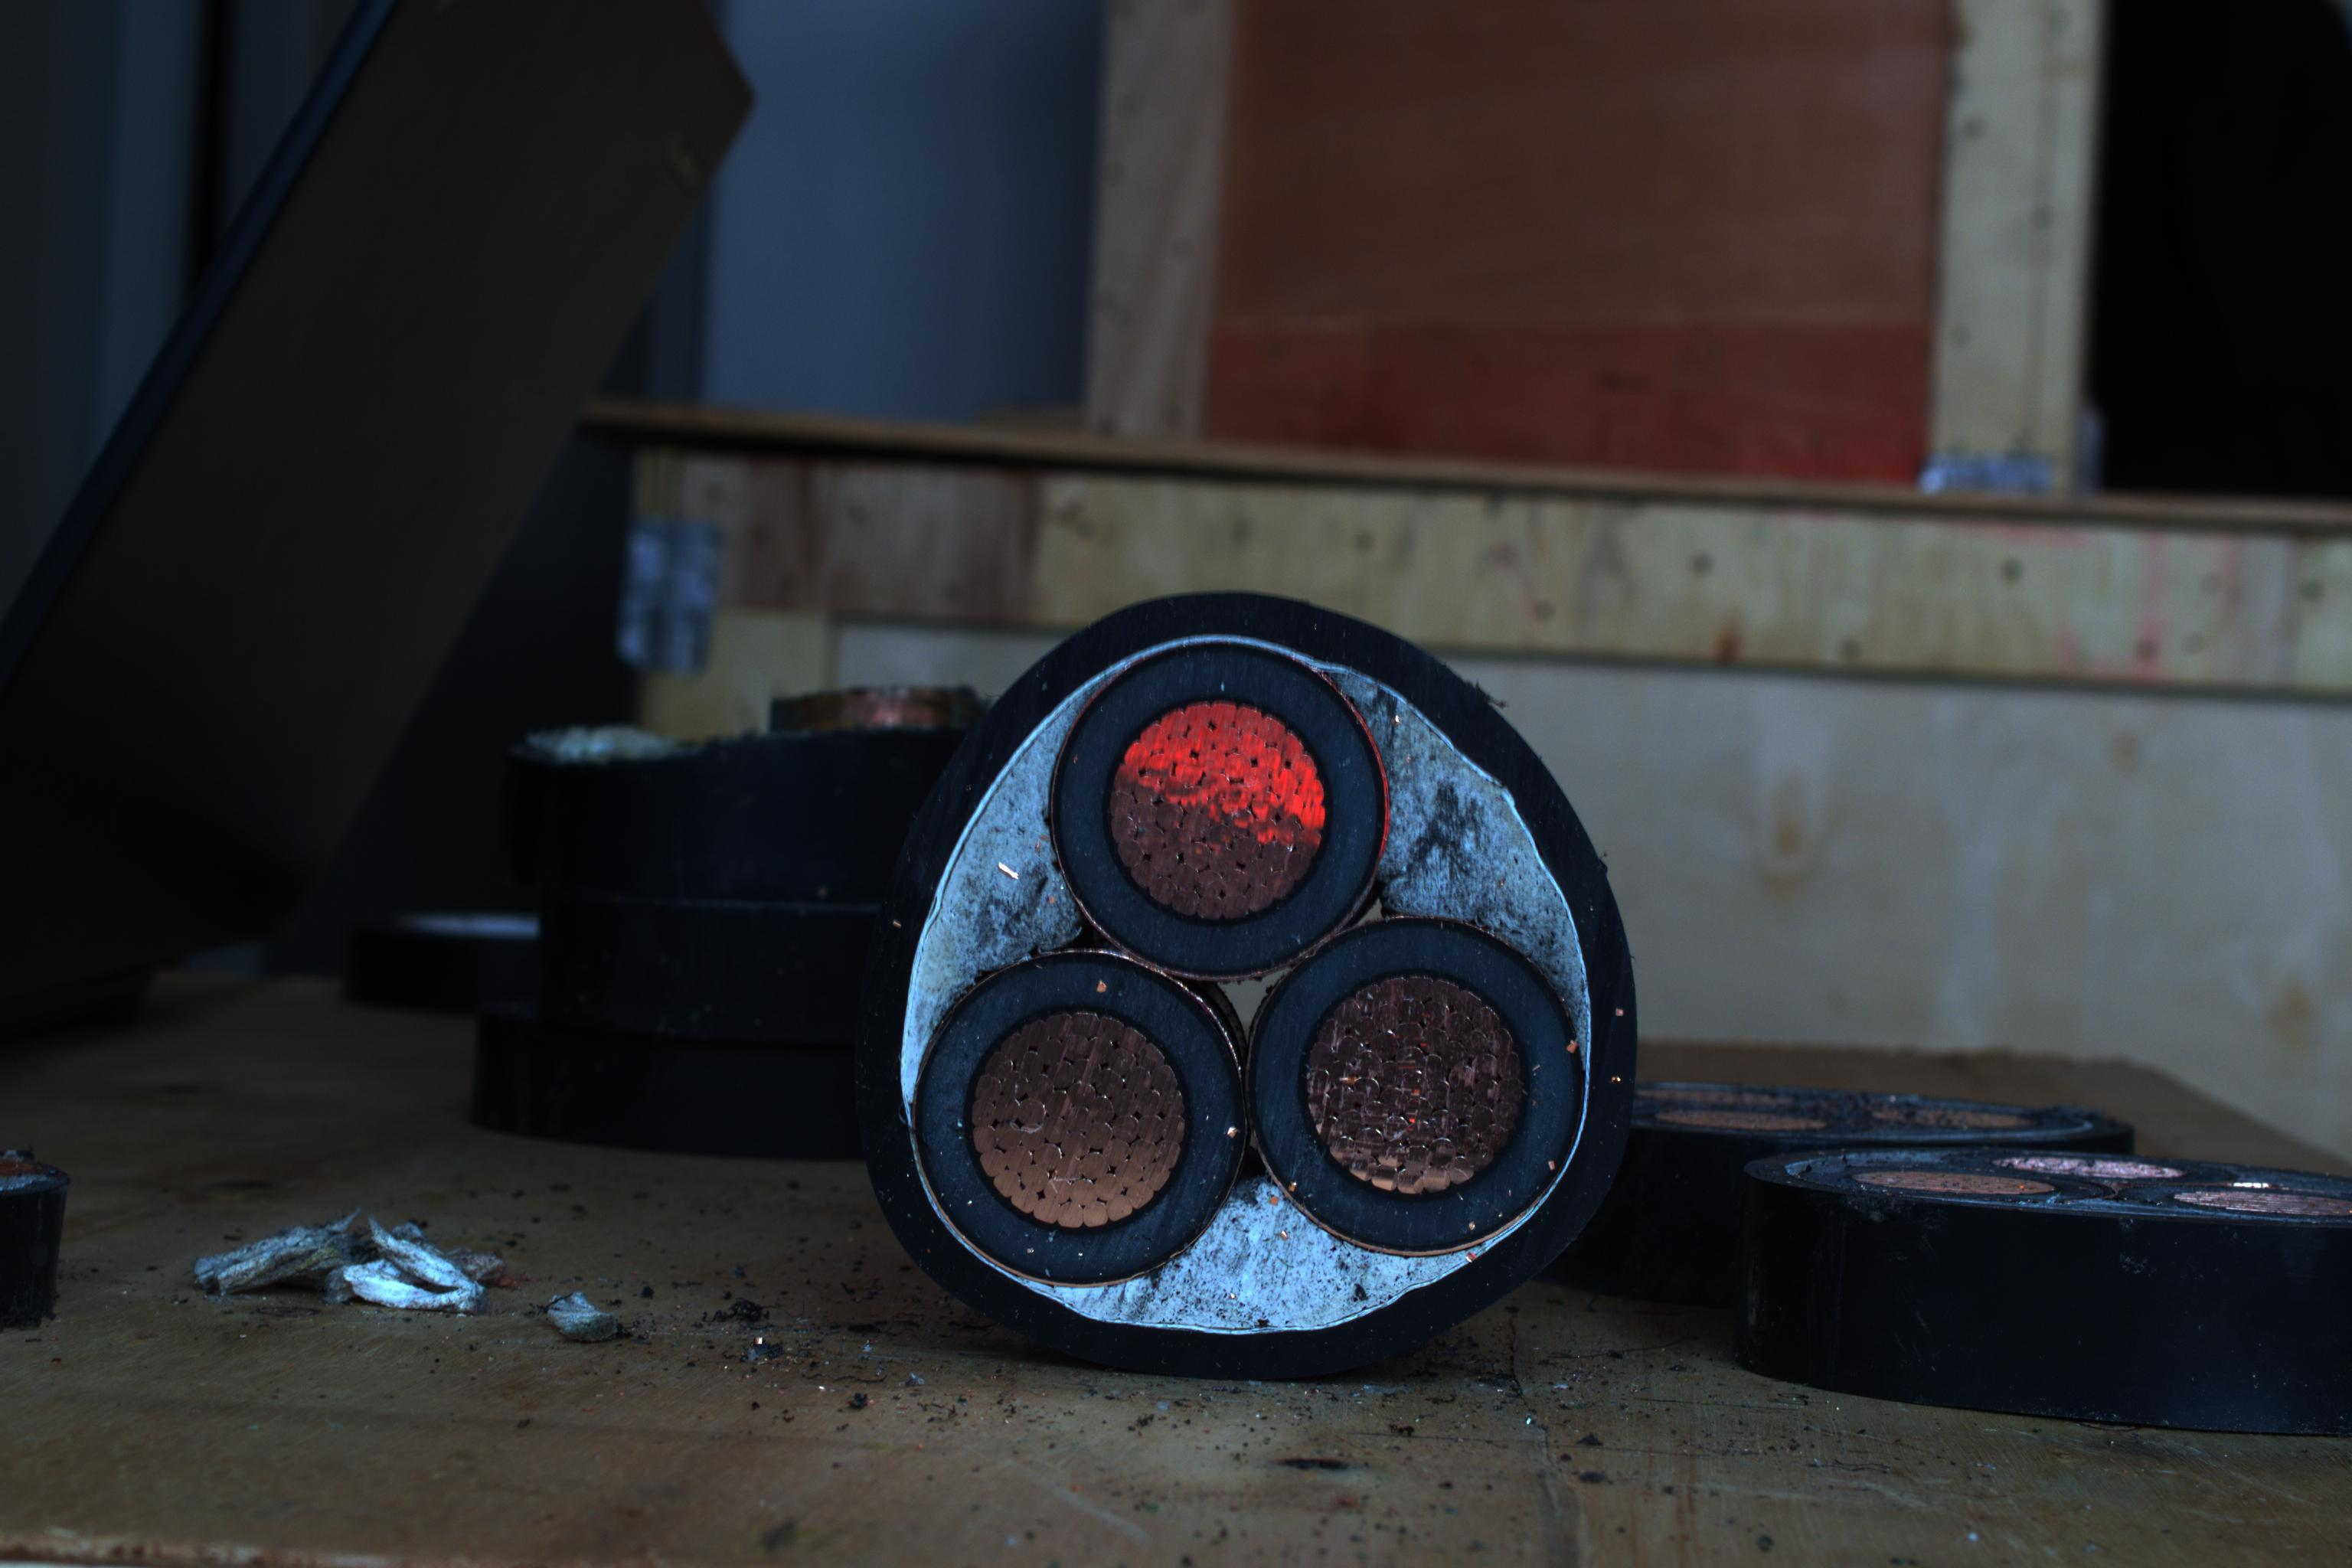ZA_YJV_8.7_10kV_3x400: (882, 583, 1659, 1354)
